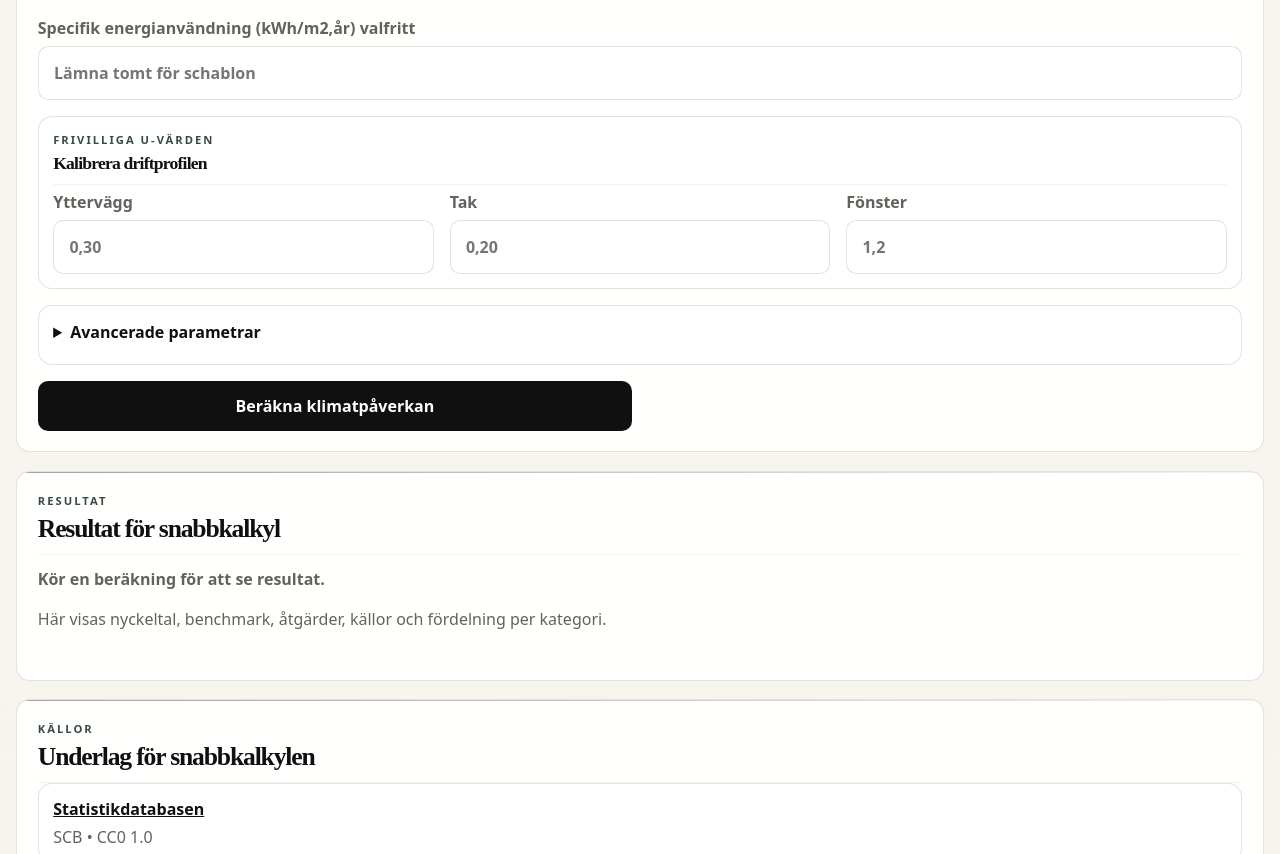
Test: App › shows validation error when required numeric fields are missing in quick mode
(page scrolled)
Click the button "Beräkna klimatpåverkan" at (335, 406), box [38,381,632,431]
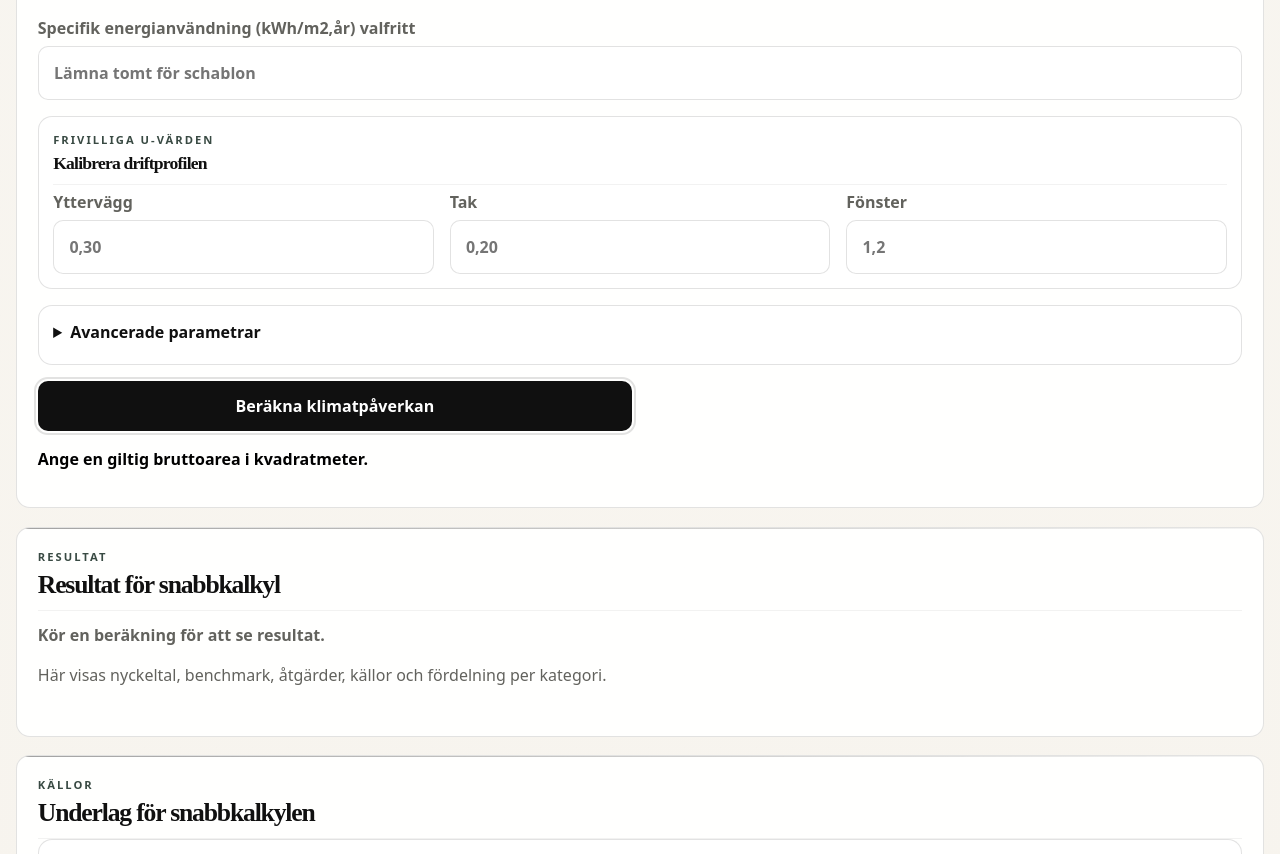
Expected: the text "Ange en giltig bruttoarea i kvadratmeter." is shown, [38,448,368,470]
